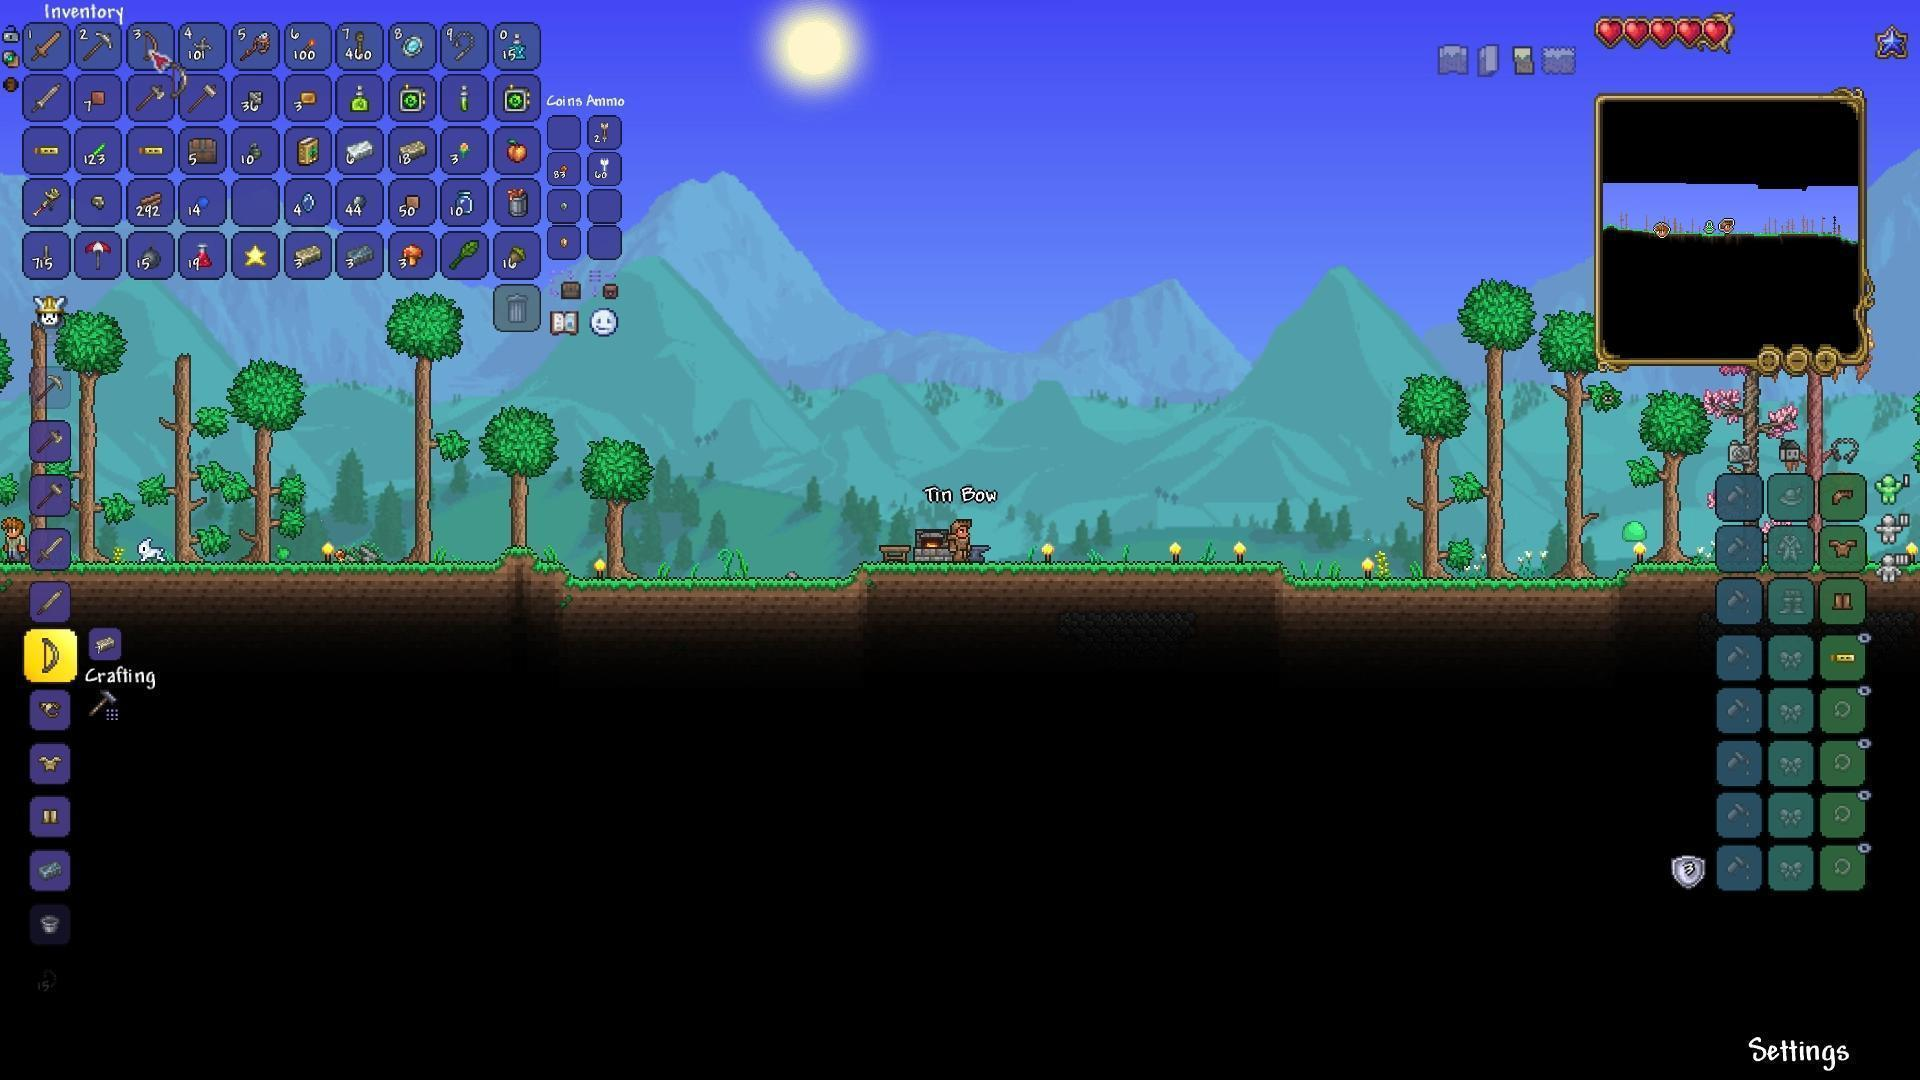anvil: (967, 539, 993, 564)
axe: (135, 84, 167, 115), (34, 429, 63, 454)
bomb: (140, 244, 162, 270)
bow: (41, 636, 61, 674), (142, 30, 158, 62)
breastplate: (1826, 537, 1859, 560), (37, 753, 63, 773)
furnace: (911, 522, 956, 563)
gel: (194, 193, 216, 214)
glowstick: (87, 140, 108, 161)
grenade: (248, 140, 262, 162)
helmet: (1829, 485, 1857, 508), (38, 699, 62, 719)
knife: (41, 243, 51, 268)
legs: (1830, 591, 1859, 615), (37, 806, 61, 825)
lens: (301, 190, 319, 218)
pickaxe: (83, 28, 115, 58), (36, 371, 63, 400)
rope: (355, 24, 369, 62)
shuriken: (191, 34, 215, 61)
slime: (1625, 520, 1648, 545)
sword: (33, 533, 65, 568), (37, 588, 65, 616)
wood: (138, 190, 166, 214)
